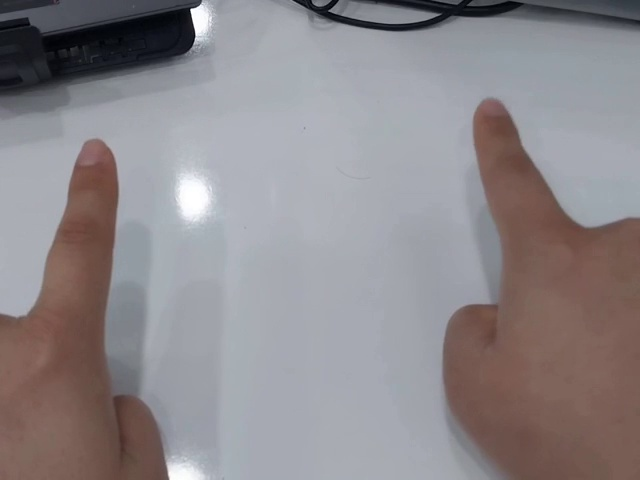fingers: (68, 138, 119, 191), (472, 97, 520, 143)
